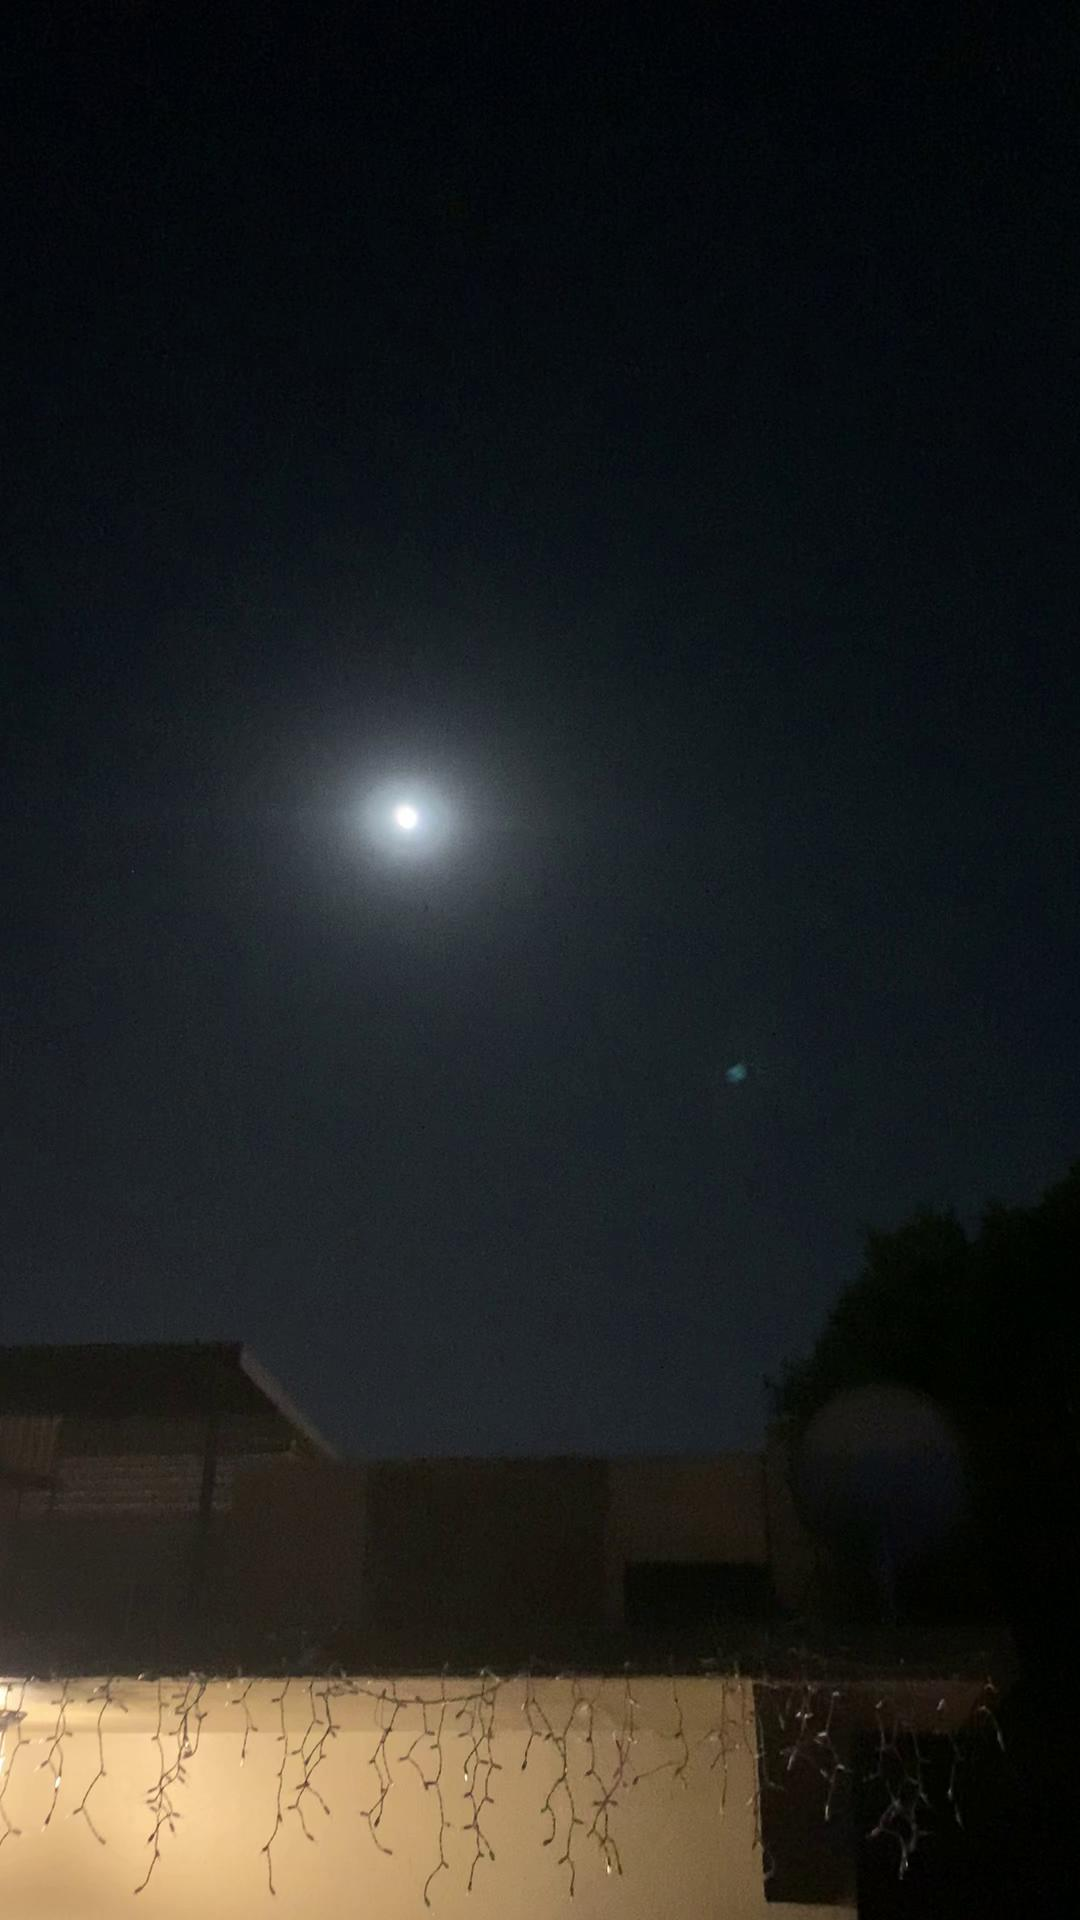moon: (367, 783, 454, 862)
